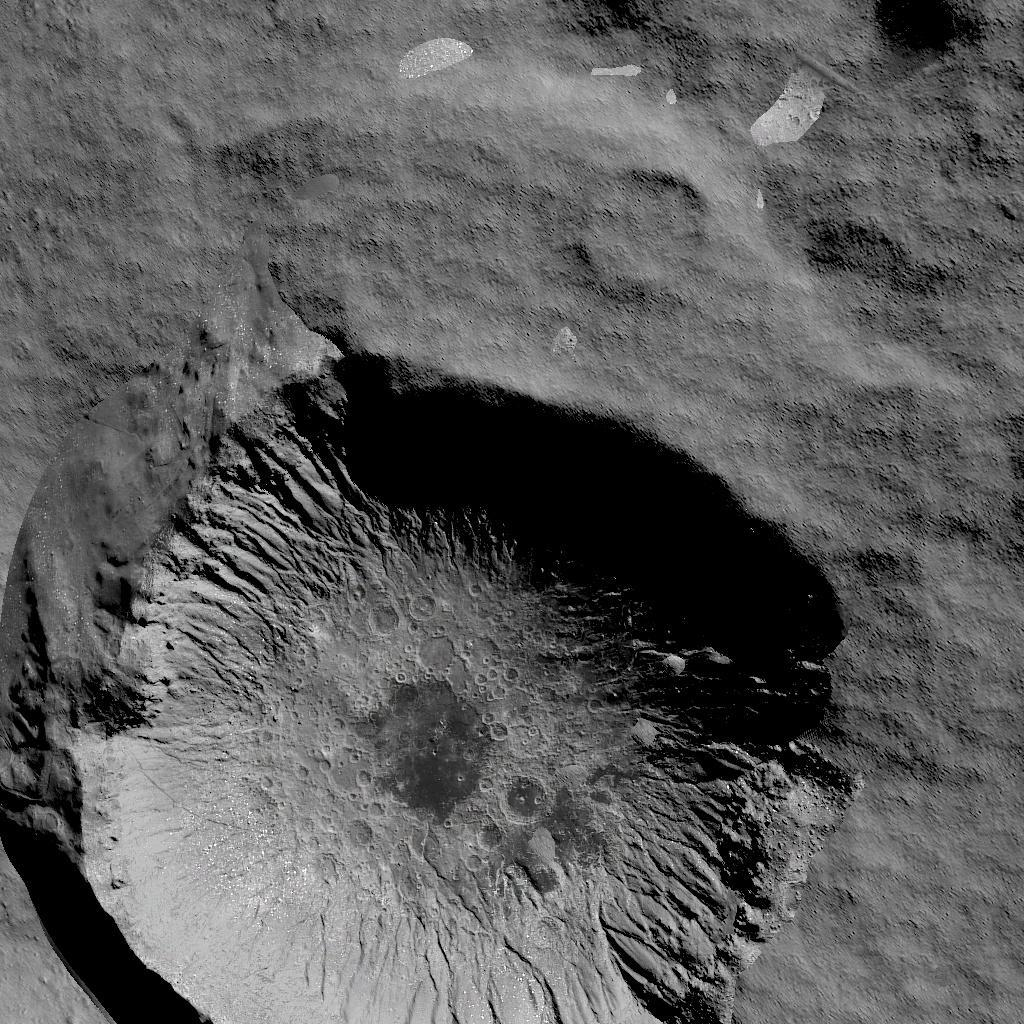Crater: (0, 283, 921, 1024)
Plan surface: (9, 2, 1024, 258)
